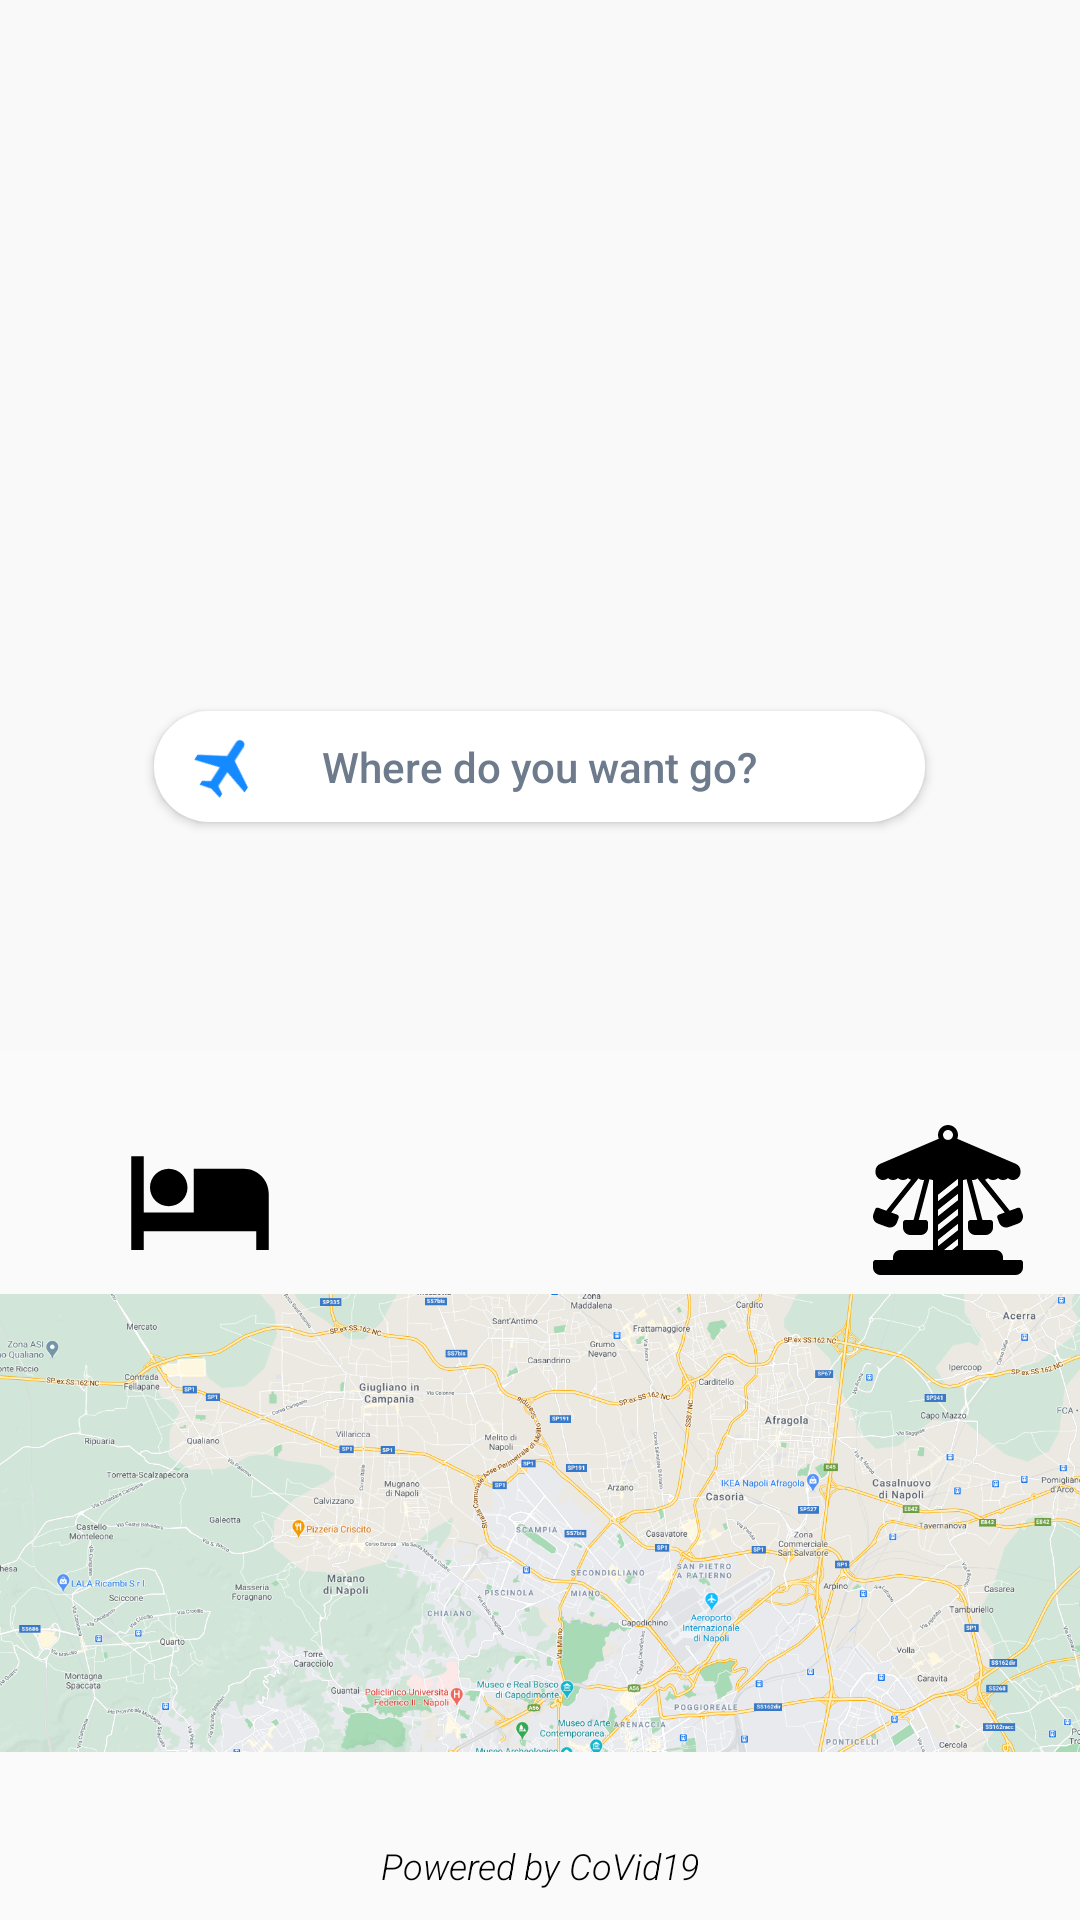

Point at icon controls on the screen. Image size 1080 × 1920, points as point (x, y).
ride: point (975, 1237)
